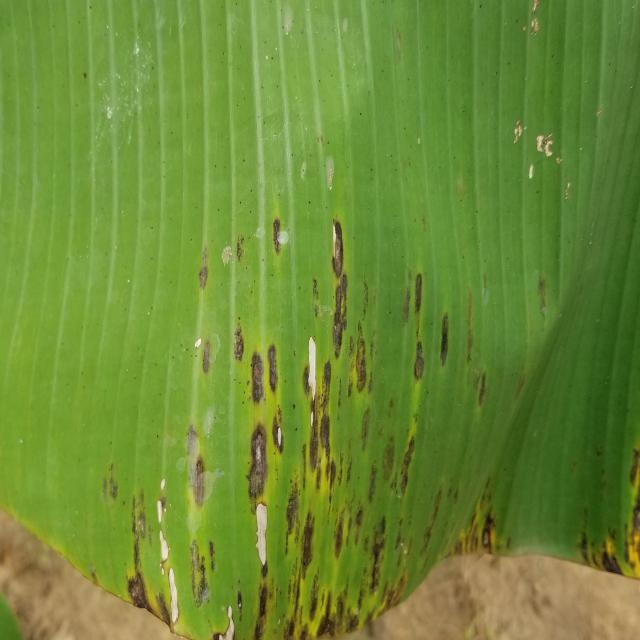Early_rust: (58, 185, 546, 640), (563, 412, 640, 606)
